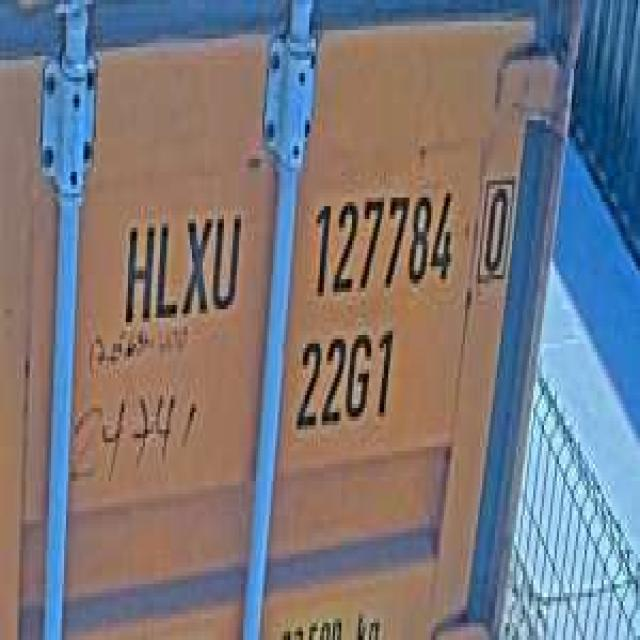dv: (476, 163, 516, 288)
owner: (117, 193, 245, 335)
serial: (305, 176, 457, 305)
size: (290, 318, 399, 438)
